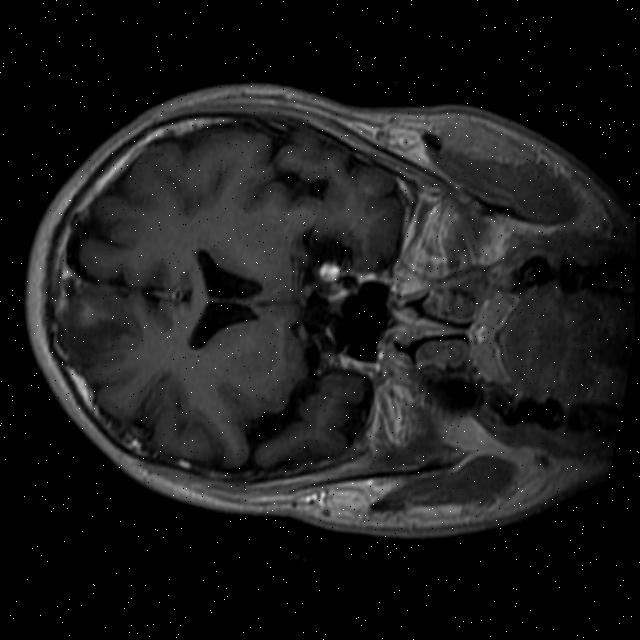Glioma: (54, 281, 150, 368)
